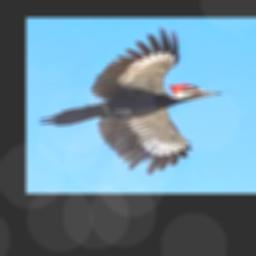Woodpecker: (38, 25, 223, 174)
